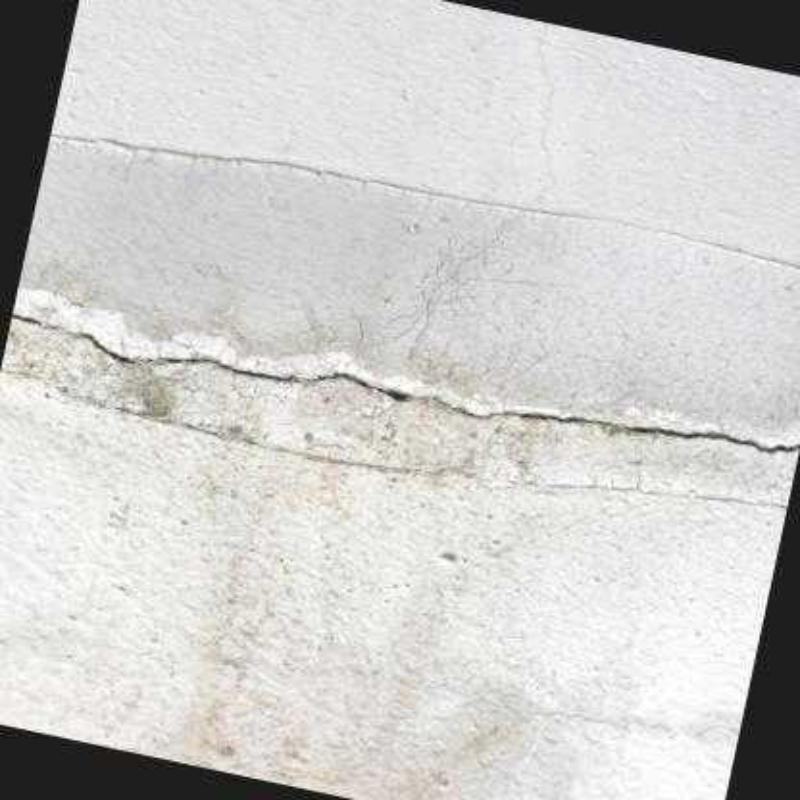pothole: (12, 312, 798, 454)
